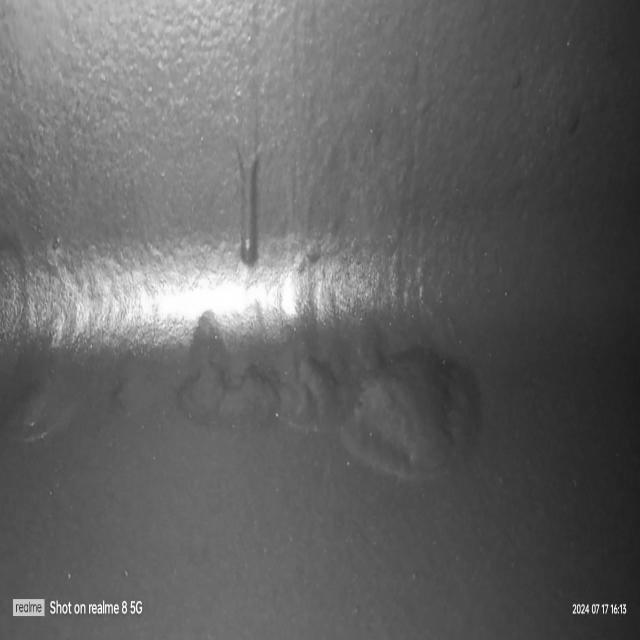paint drips: (219, 97, 274, 289)
